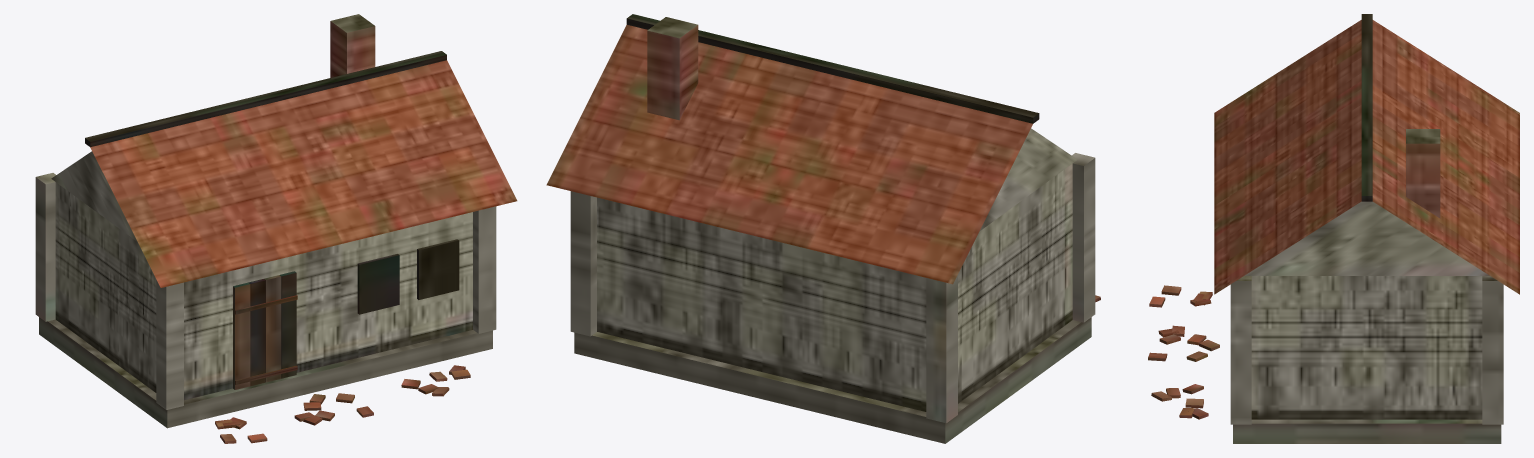
The model's file is starfort_guardhouse_live.glb.
3 renders of one model, left to right at view 1: azimuth 30°, elevation 25°; view 2: azimuth 150°, elevation 25°; view 3: azimuth 270°, elevation 25°, orthographic. The views are drawn at different scales.
Visible parts, largest first — view 1: intact, door, breached, cracked; view 2: intact; view 3: intact, cracked, breached.
Part boxes in pixels (x1,y1,x2,y2): intact: [35, 14, 517, 428]; door: [233, 271, 297, 389]; breached: [223, 369, 470, 428]; cracked: [215, 365, 465, 443]; intact: [546, 14, 1095, 443]; intact: [1214, 14, 1519, 443]; cracked: [1149, 285, 1219, 419]; breached: [1148, 293, 1207, 418].
Size of what is drawn, in the model's own units: 6.9 by 5 by 5.96.
1 material, 1 textured.
